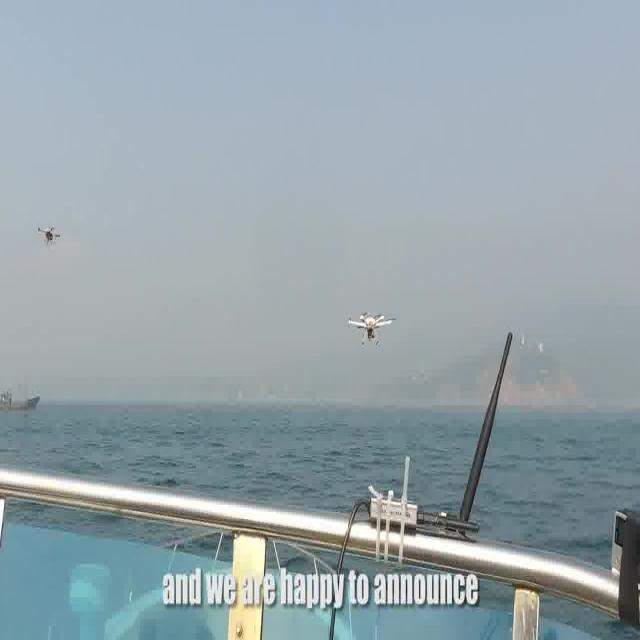drone: (344, 306, 398, 351), (36, 220, 61, 250)
